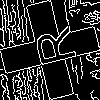R: (25, 25, 78, 71)
